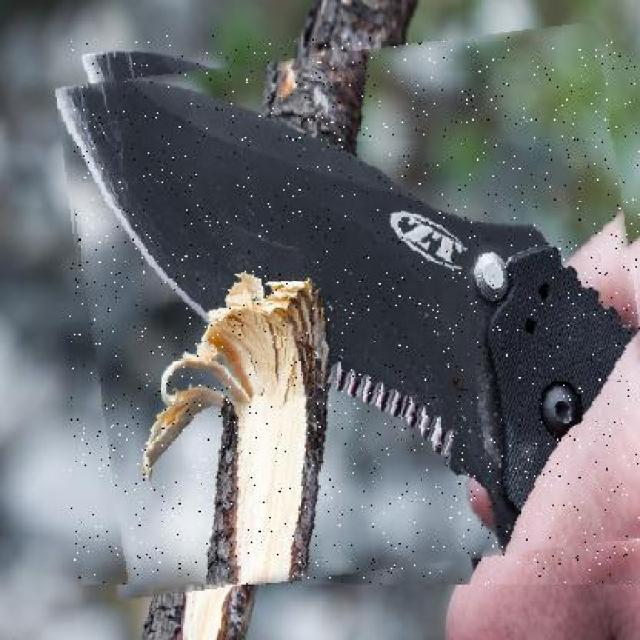knife: (69, 36, 640, 584)
